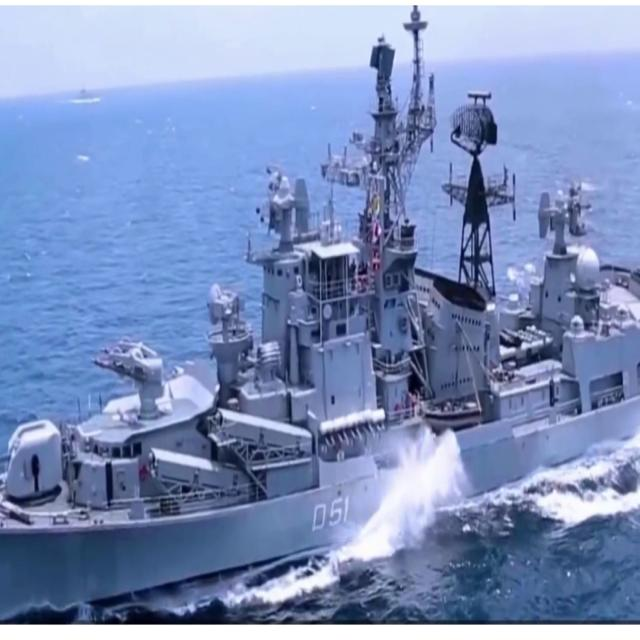OCR: (305, 490, 355, 542)
